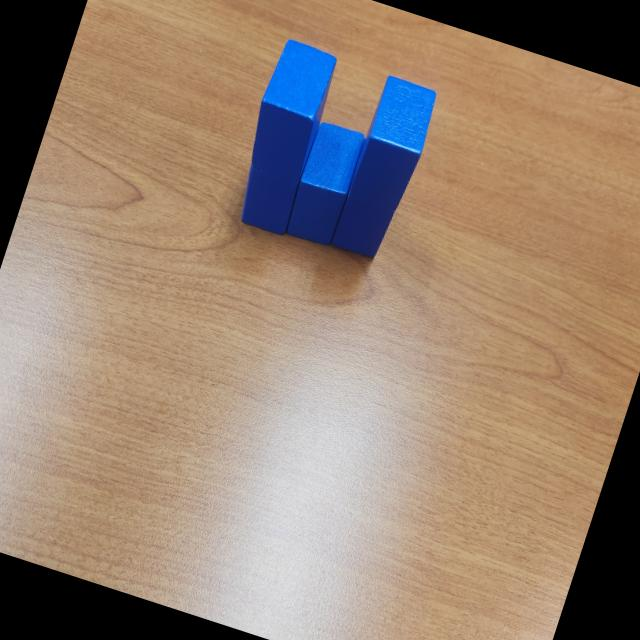blue: (240, 36, 344, 185), (346, 73, 442, 216), (282, 120, 368, 251), (329, 138, 414, 262), (233, 162, 302, 238)
